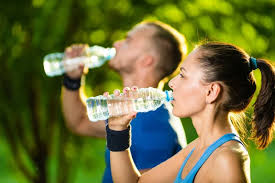Botella: (86, 87, 172, 121), (46, 46, 115, 75)
